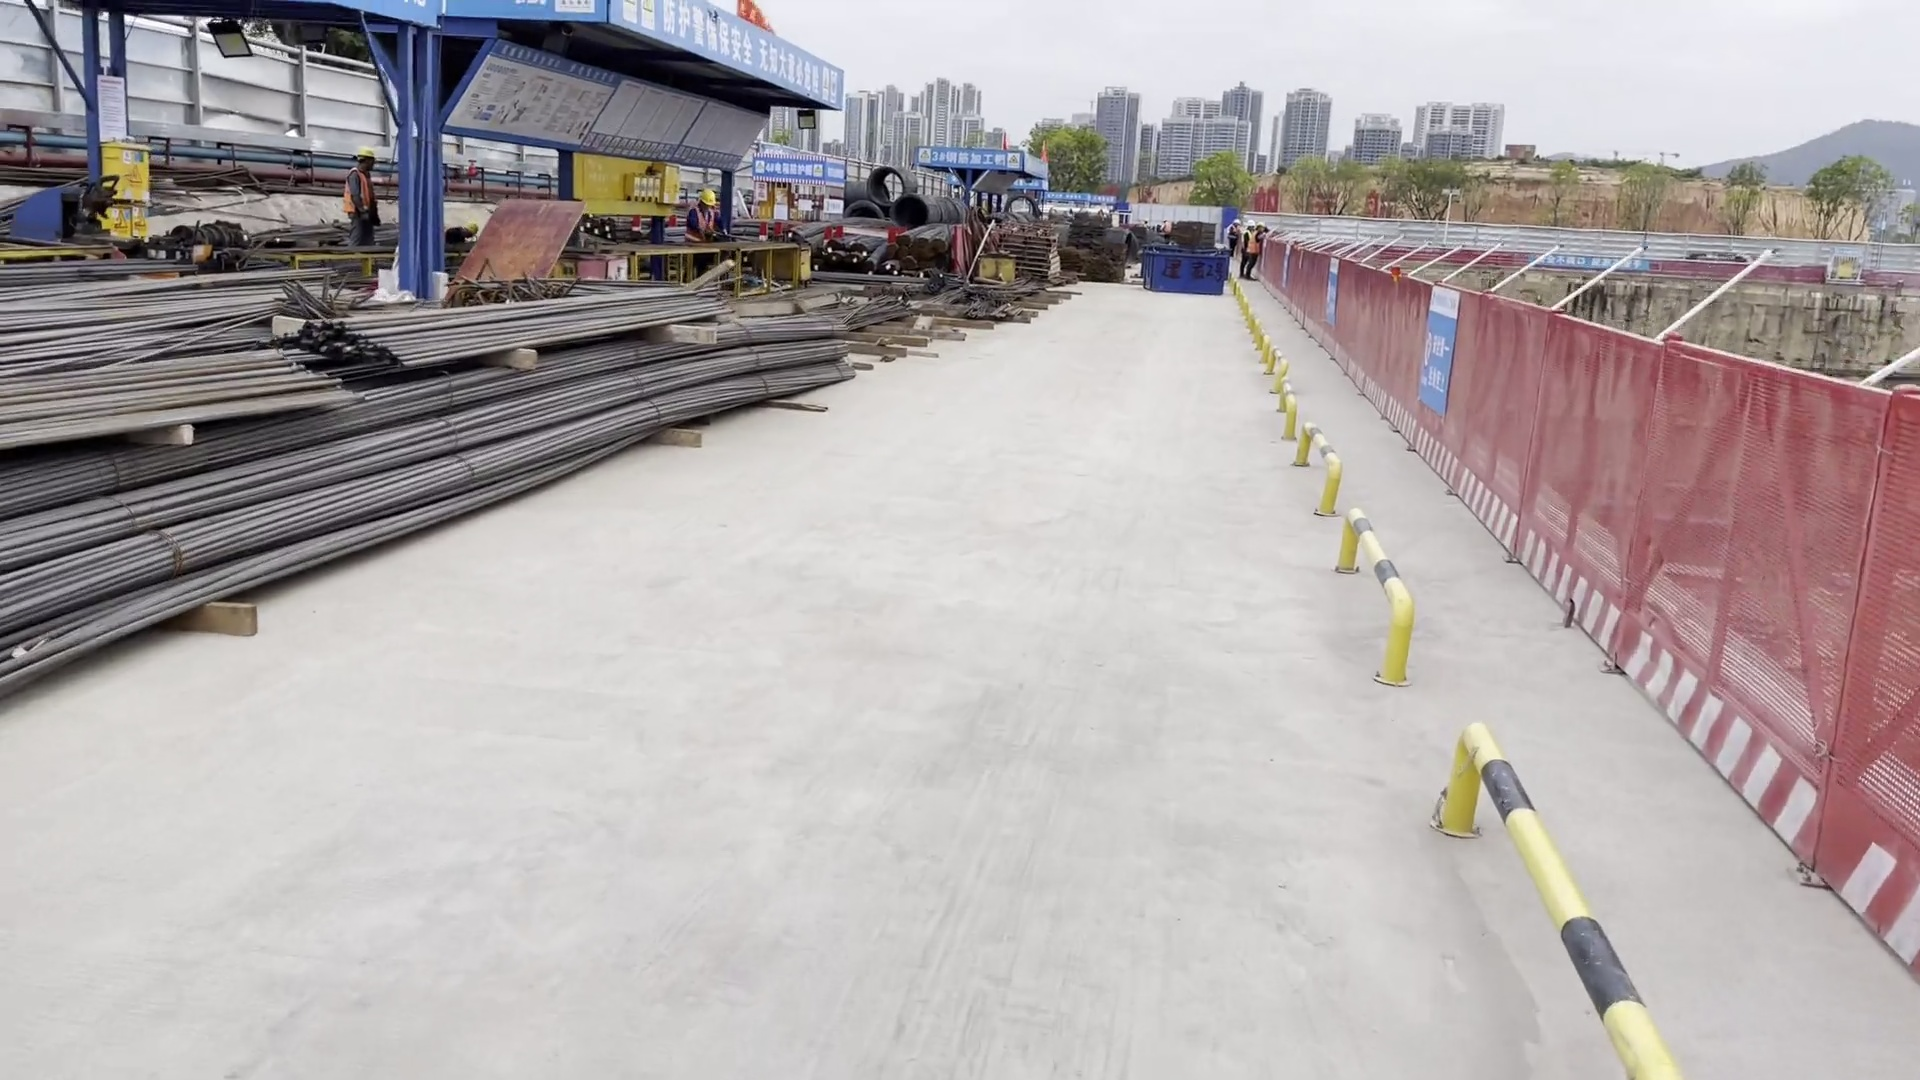ebox: (100, 135, 151, 241), (654, 160, 677, 216)
fence: (1259, 231, 1920, 988)
helmet: (698, 189, 716, 208), (462, 220, 479, 236), (357, 147, 377, 160), (1257, 223, 1266, 228), (1234, 220, 1241, 226), (1247, 221, 1254, 227)
hopper: (1136, 243, 1228, 294)
person: (337, 146, 384, 248), (685, 185, 722, 242), (1246, 222, 1270, 279), (440, 217, 480, 246), (1239, 221, 1255, 277), (1225, 219, 1242, 256)
rebar: (11, 226, 864, 705), (314, 271, 742, 387), (1, 337, 356, 438), (829, 284, 916, 333), (789, 216, 894, 244), (844, 253, 863, 274), (878, 258, 899, 275), (825, 238, 846, 253), (919, 250, 938, 268), (899, 254, 918, 271), (809, 257, 825, 274), (826, 254, 844, 270), (930, 235, 946, 253), (913, 234, 929, 250), (893, 231, 912, 244), (853, 237, 870, 251), (864, 255, 877, 272)
slogan: (601, 1, 840, 109)
vest: (342, 164, 367, 212), (687, 208, 716, 240), (1248, 233, 1262, 250), (1228, 228, 1239, 248), (1242, 232, 1251, 250)
